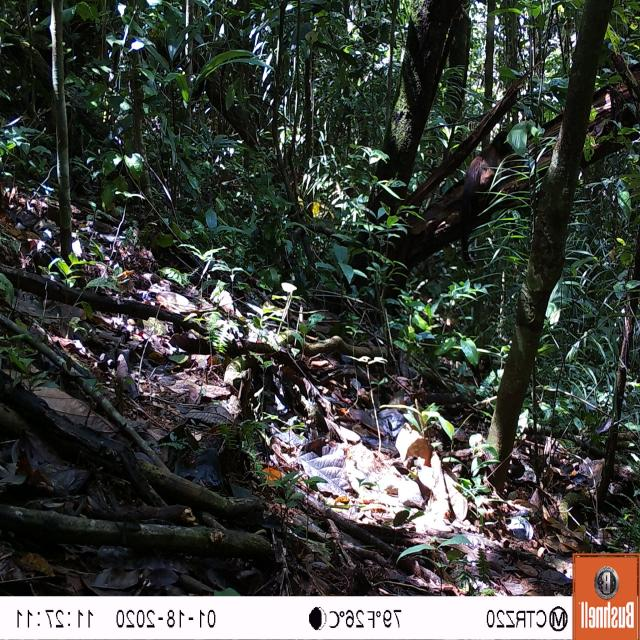Margarita Island Capuchin: (446, 120, 517, 285)
